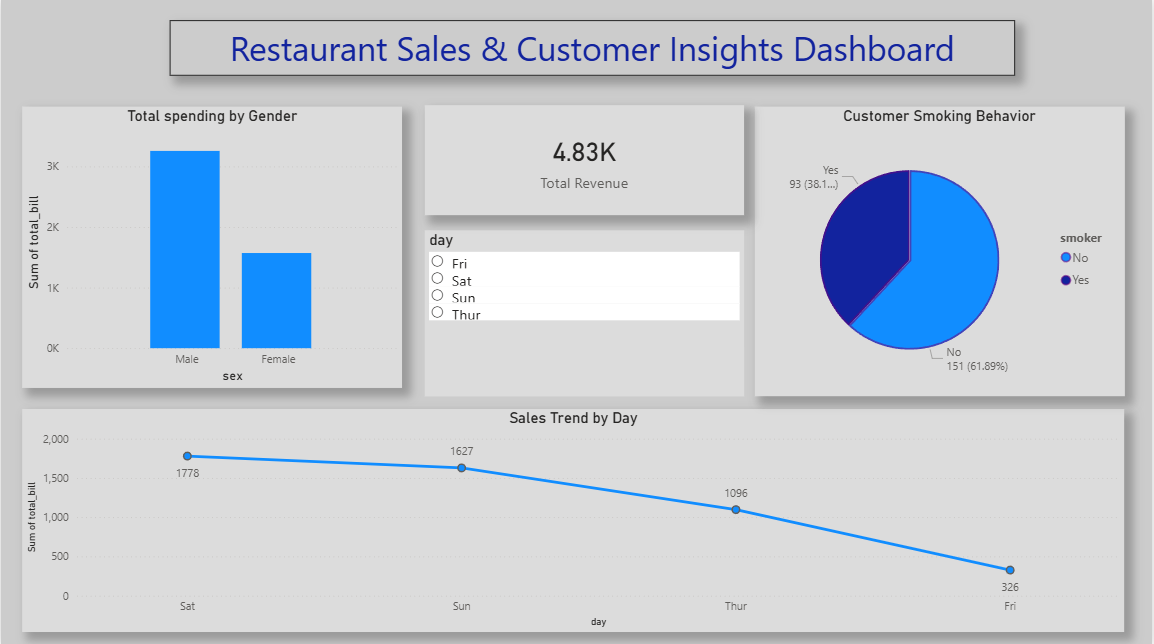

Layout of this report page (visuals, bound fields, positions):
{"tool":"powerbi","page":{"name":"Page 1","canvas":[1280,720],"ordinal":0},"visuals":[{"type":"pieChart","title":"Customer Smoking Behavior","fields":{"Category":["tips.smoker"],"Y":["CountNonNull(tips.smoker)"]},"box":[838.1,119.7,410.9,322.5],"z":1},{"type":"lineChart","title":"Sales Trend by Day","fields":{"Category":["tips.day"],"Y":["Sum(tips.total_bill)"]},"box":[23.1,455.8,1225.9,247.6],"z":2},{"type":"textbox","box":[188,23.3,940,61.7],"z":3},{"type":"card","fields":{"Values":["Sum(tips.total_bill)"]},"box":[470.7,118.4,355.1,122.4],"z":4},{"type":"listSlicer","fields":{"Values":["tips.day"]},"box":[470.9,257.5,355.2,184.8],"z":5},{"type":"clusteredColumnChart","title":"Total spending by Gender","fields":{"Category":["tips.sex"],"Y":["Sum(tips.total_bill)"]},"box":[23.6,119.5,422.6,312.8],"z":6}]}

Visuals, with their boxes in screenshot pixels (x1, y1, x2, y2), scaled from the page's 1280x720 canvas onto the 1154x644 screenshot:
"Customer Smoking Behavior" pieChart: bbox=[756, 107, 1126, 396]
"Sales Trend by Day" lineChart: bbox=[21, 408, 1126, 629]
textbox: bbox=[169, 21, 1017, 76]
card - Sum(tips.total_bill): bbox=[424, 106, 745, 215]
listSlicer - tips.day: bbox=[425, 230, 745, 396]
"Total spending by Gender" clusteredColumnChart: bbox=[21, 107, 402, 387]
